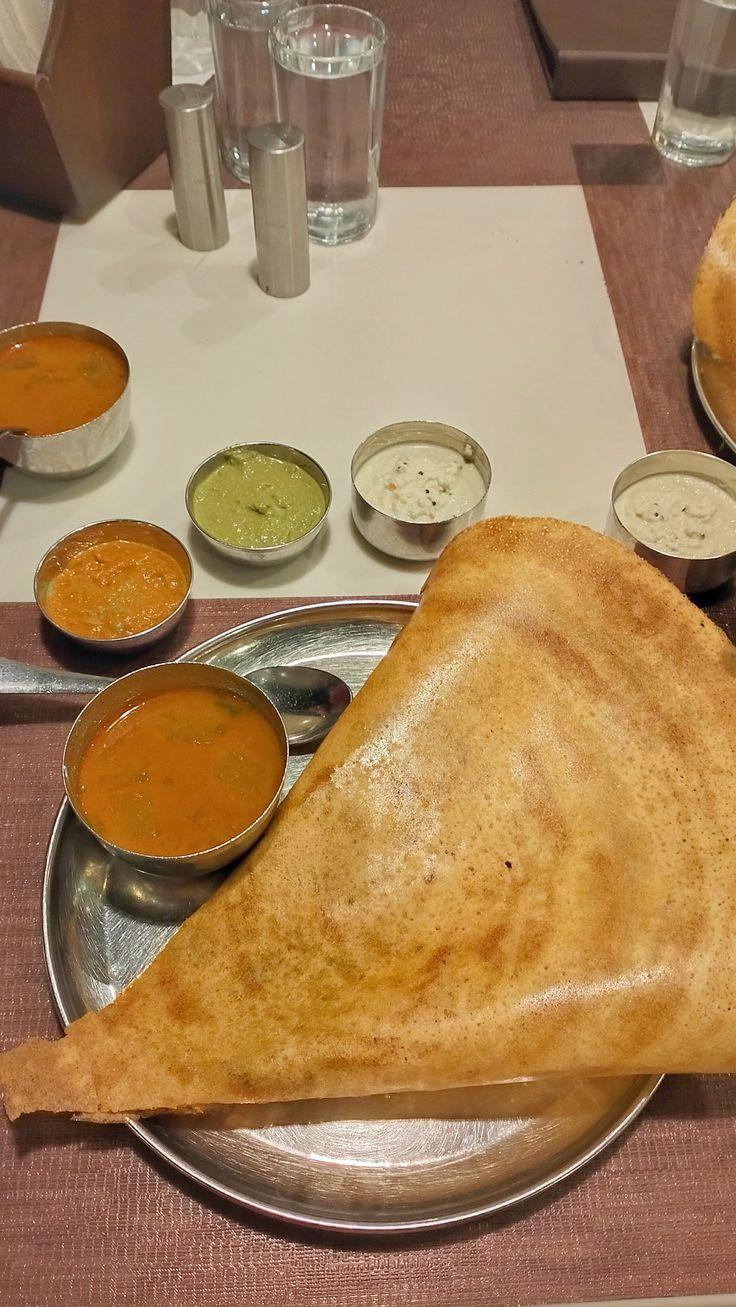dosa: (63, 540, 736, 1129)
